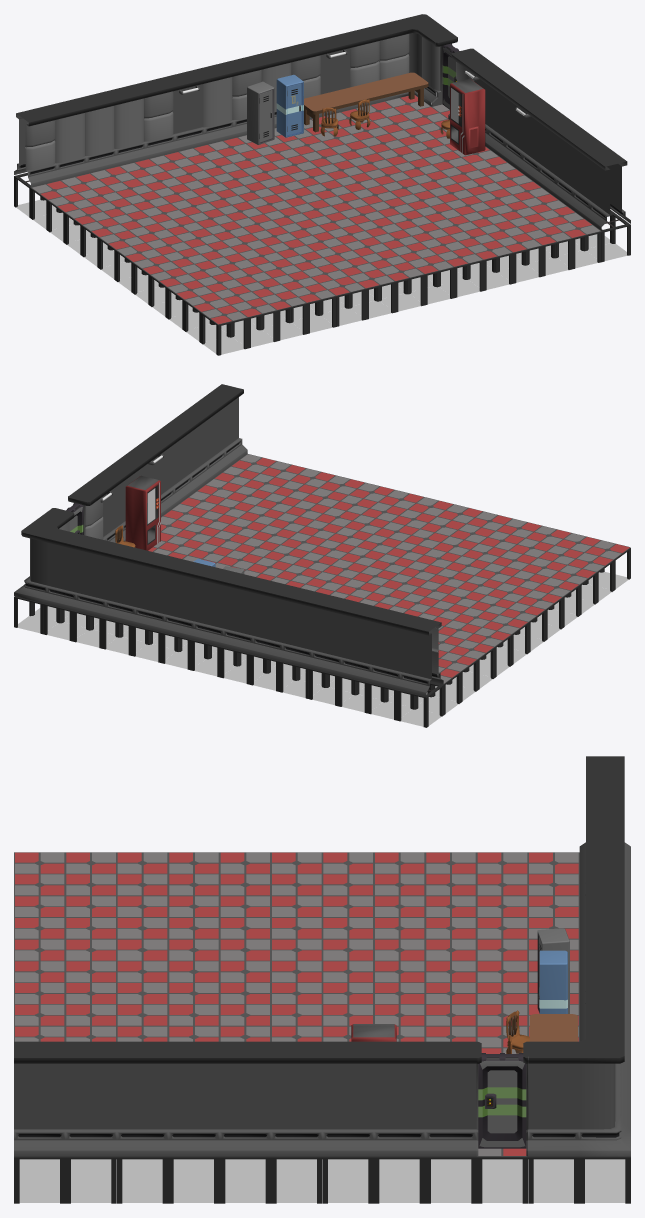
The model's file is Character Customizer Scene.fbx.
The picture shows the model from 3 angles, top to bottom: view 1: azimuth 30°, elevation 25°; view 2: azimuth 150°, elevation 25°; view 3: azimuth 270°, elevation 25°; orthographic projection. The views are drawn at different scales.
Visible parts, largest first — view 1: Plenum.160; view 2: Plenum.160; view 3: Plenum.160.
Part boxes in pixels (left/top/right/bottom): Plenum.160: left=14, top=14, right=630, bottom=355; Plenum.160: left=14, top=384, right=630, bottom=727; Plenum.160: left=14, top=756, right=630, bottom=1203.
Size of the model in its own units: 14.01 by 3.07 by 12.
